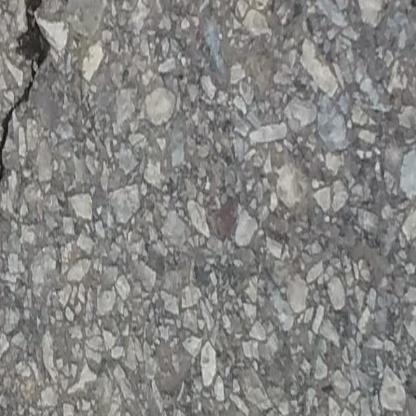Cracks: (0, 0, 76, 260)
